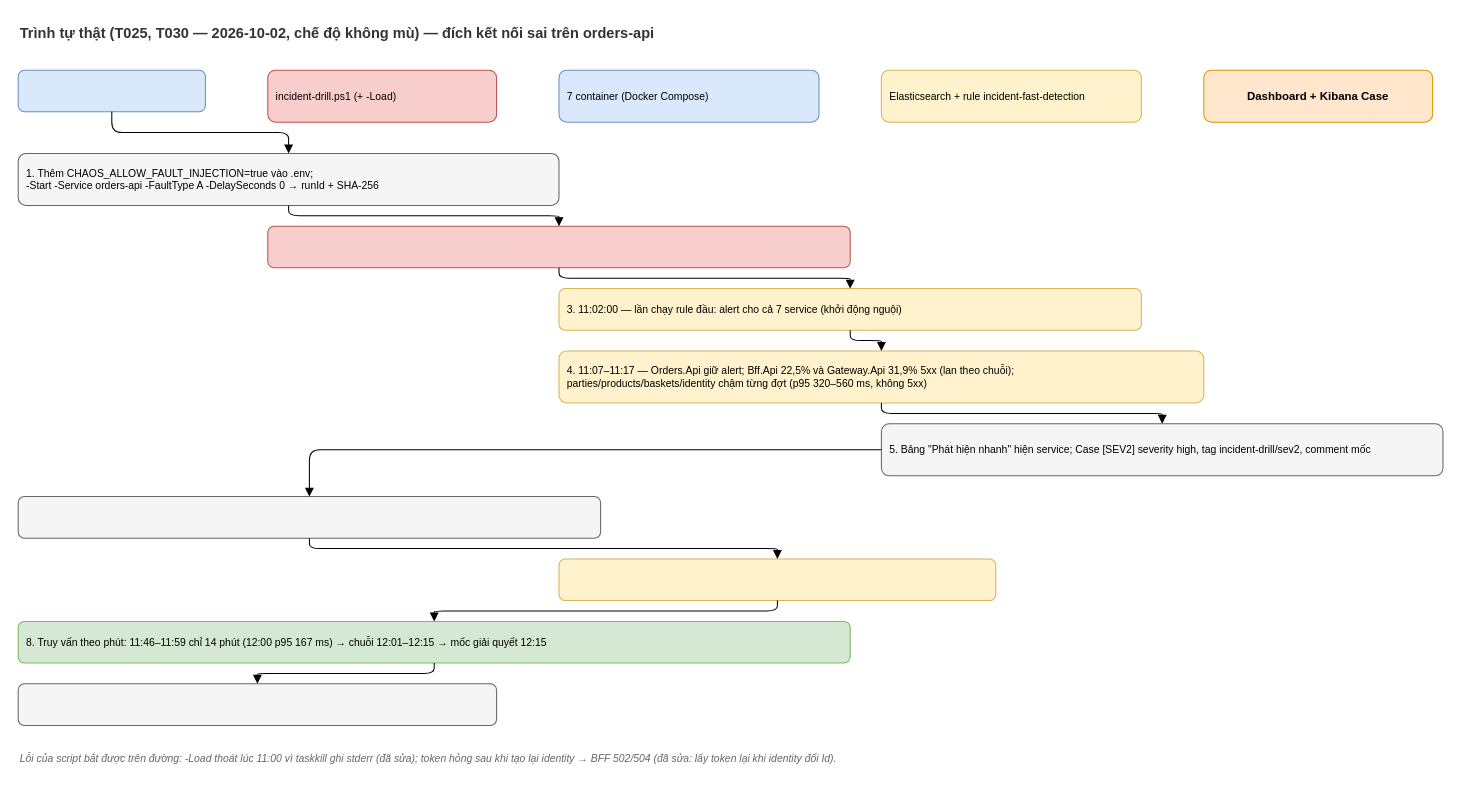
The diagram is 1472 pixels wide and 805 high, and some of its shapes have lost their labels. The shapes that lost their labels are listed below. From the top down, each one's centre as x and y in pixels, then its label:
At point 111,90: "Người vận hành".
At point 558,246: "2. 11:00:25 — tạo lại 7 container; orders-api nhận Server=incident-missing-db".
At point 309,517: "6. ~11:27 — bỏ cờ khỏi .env, chạy lại compose → 7 container cấu hình đúng".
At point 777,579: "7. 11:32:03 — alert Orders.Api recovered".
At point 257,704: "9. -Reveal → mã băm khớp; đối chiếu lựa chọn".
